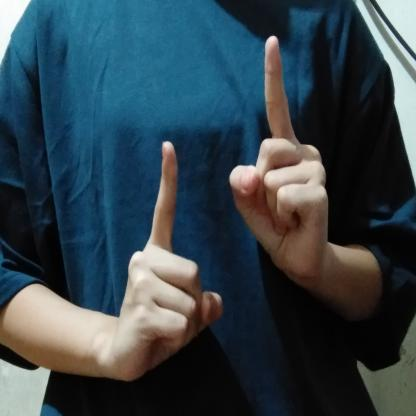morning: (110, 29, 330, 392)
